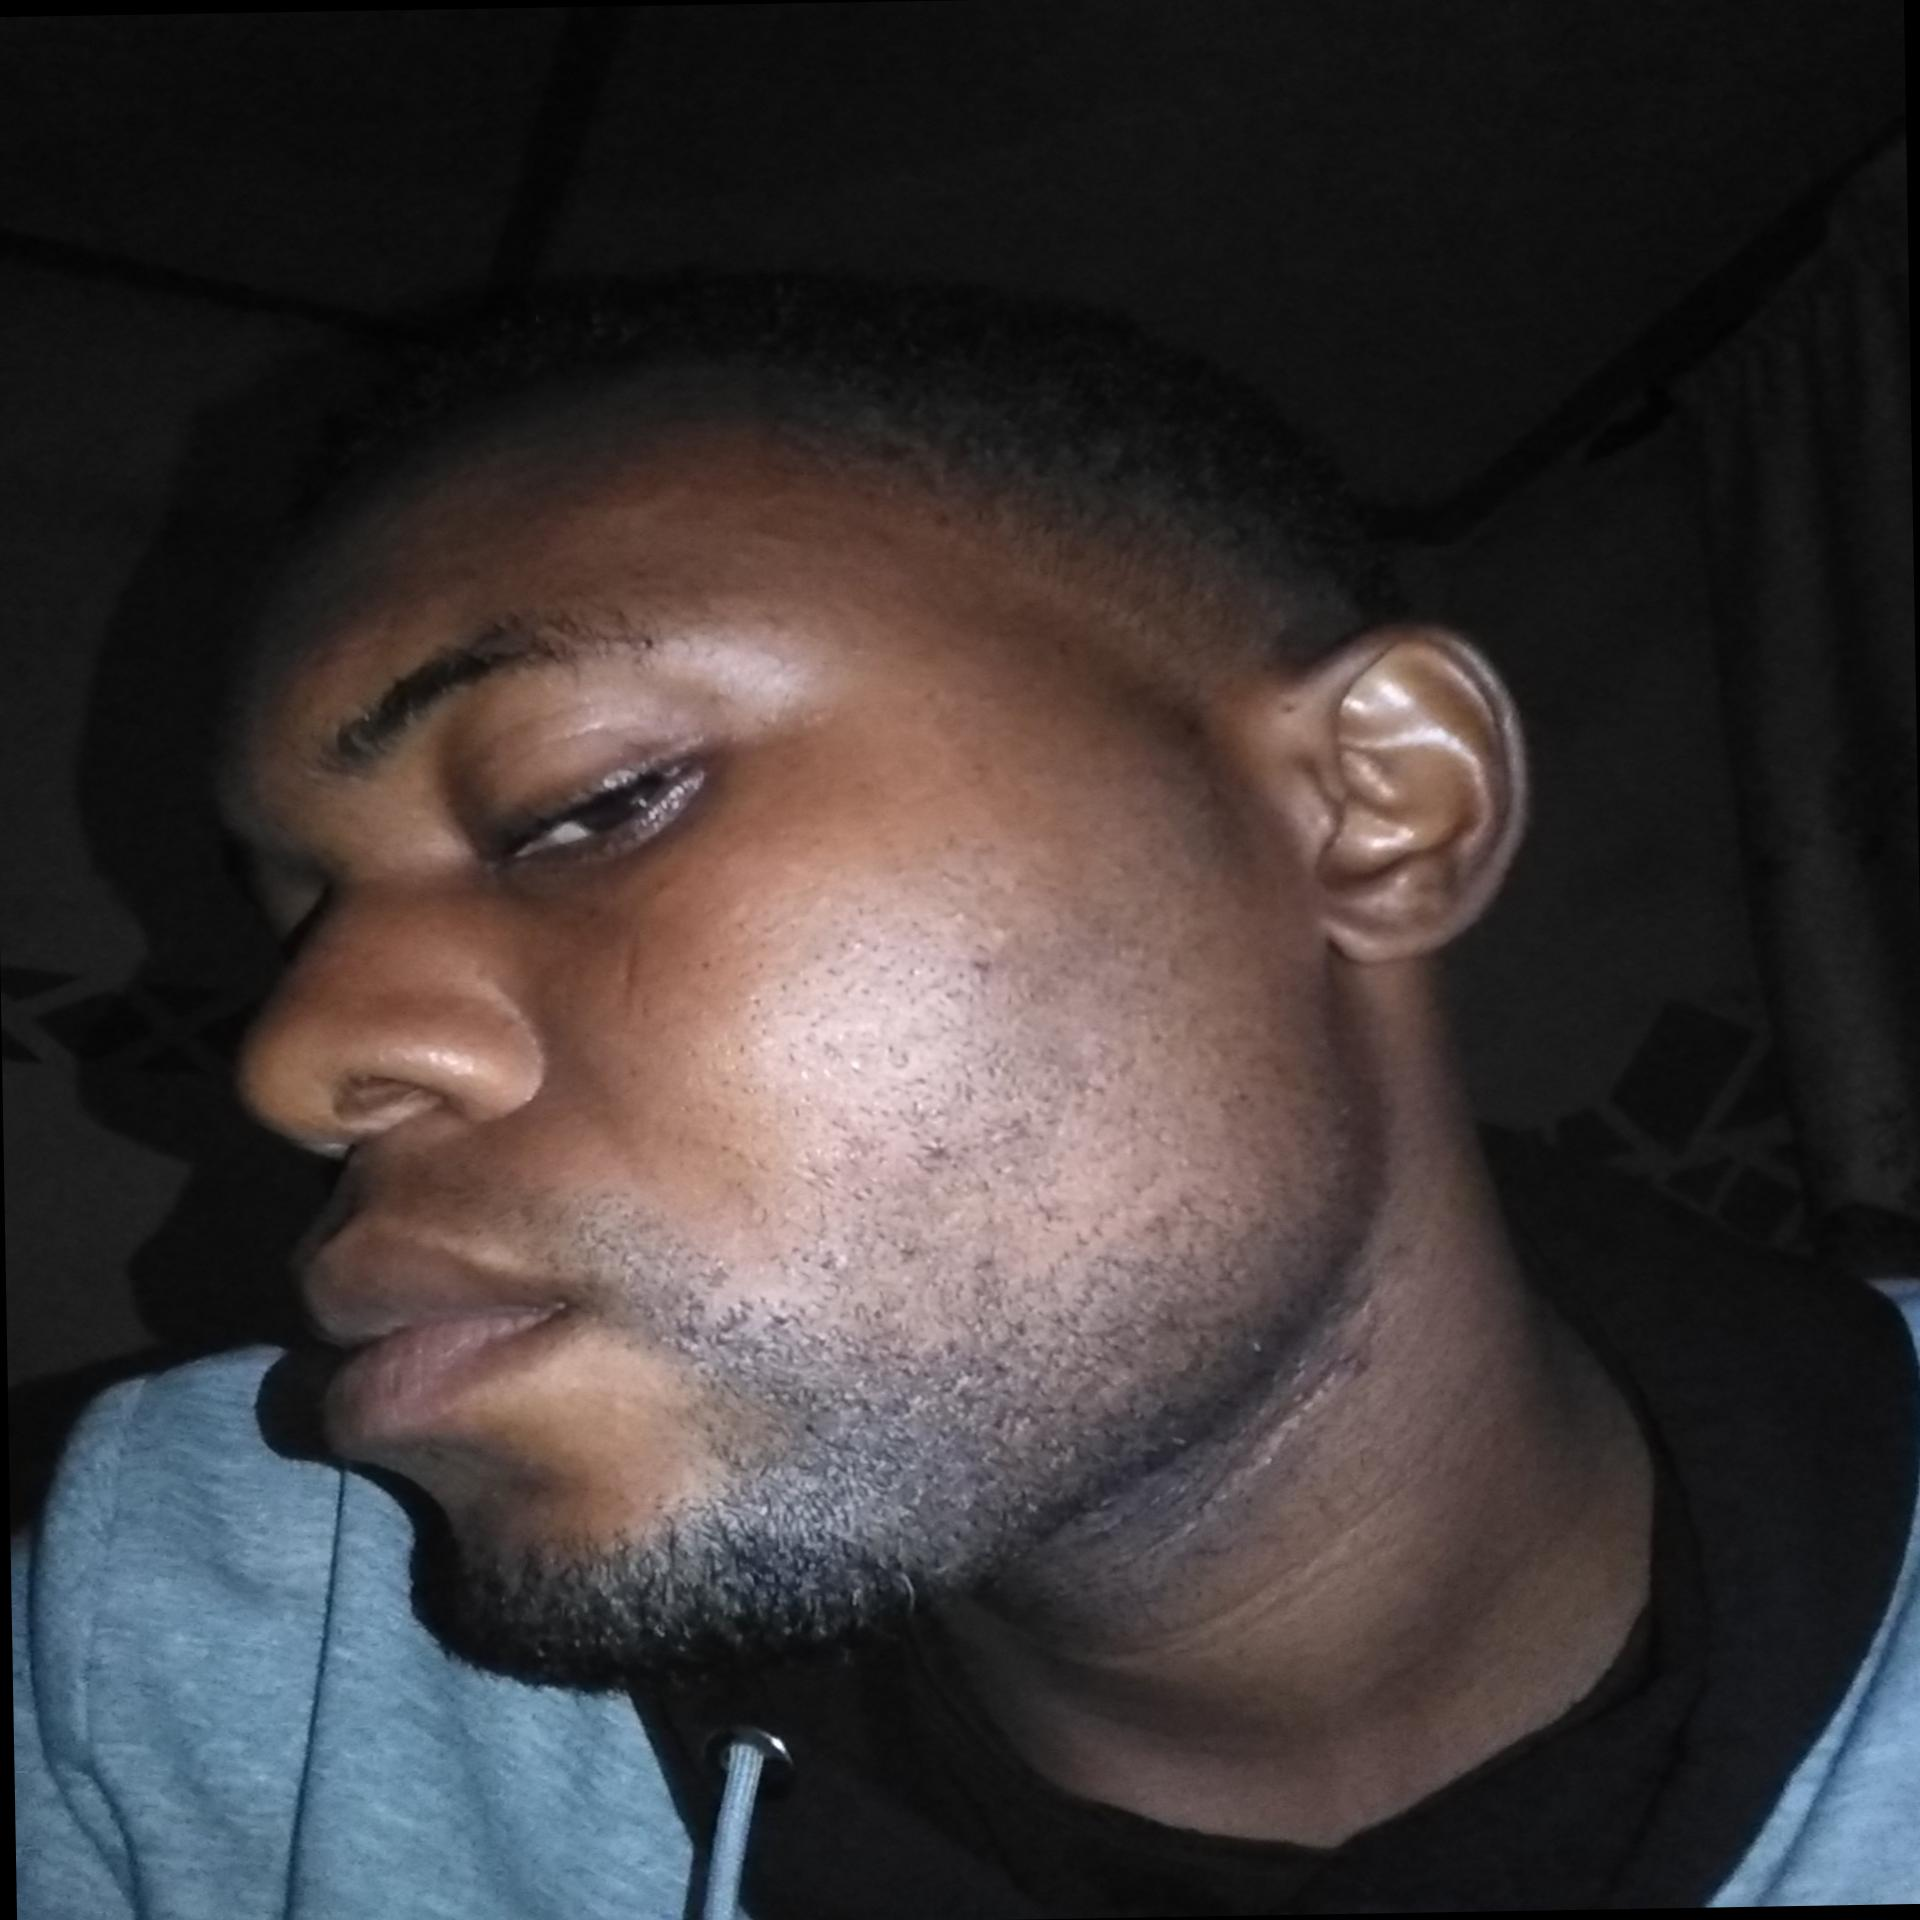Englarged Pores: (601, 921, 812, 1136)
